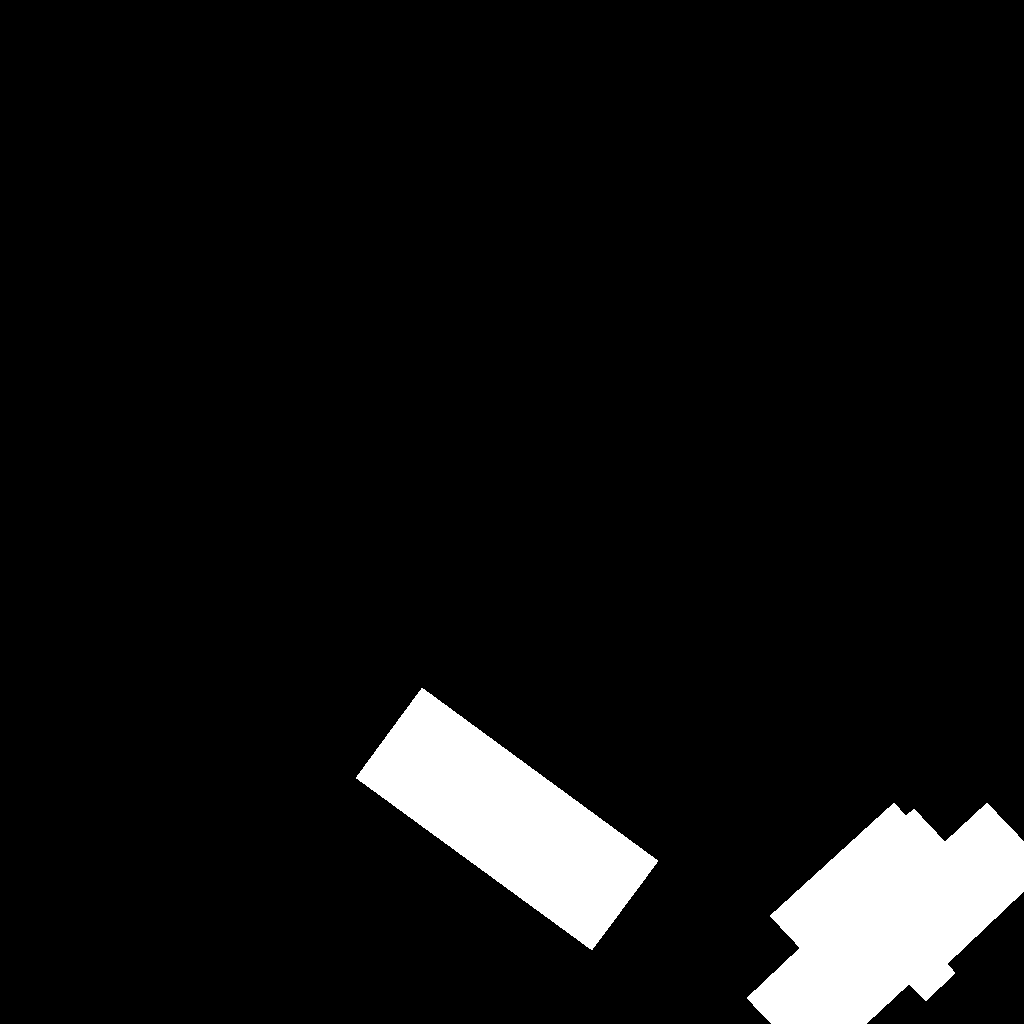building: (356, 688, 659, 951), (747, 803, 1024, 1024)
